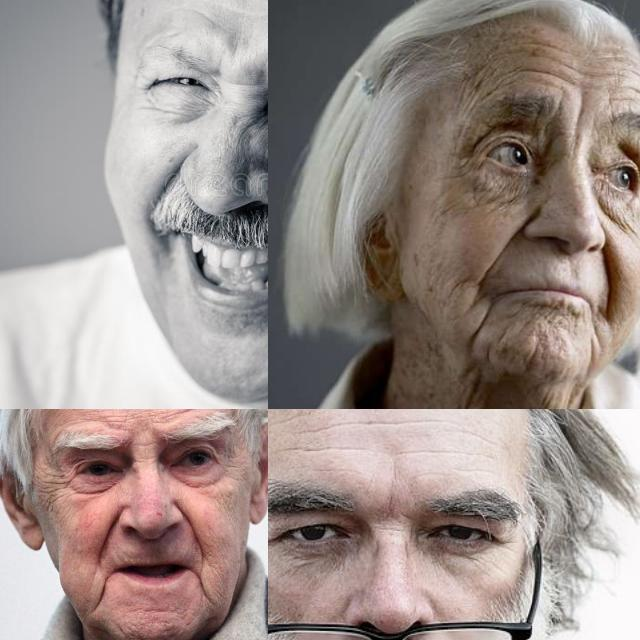bunny_line: (239, 109, 265, 141)
chin: (526, 297, 568, 323), (518, 339, 542, 375)
crows_feet: (450, 146, 482, 192), (50, 468, 74, 497)
forehead: (330, 409, 436, 438), (516, 45, 574, 91), (604, 63, 640, 109), (413, 440, 475, 464), (288, 435, 340, 463), (462, 61, 498, 99), (188, 5, 226, 33), (96, 409, 153, 414), (175, 409, 211, 416)
frown_line: (566, 102, 584, 156)
gummy_smile: (489, 213, 533, 270), (594, 232, 616, 302), (177, 508, 205, 552), (98, 508, 122, 554), (153, 160, 180, 200)
sad_smile: (582, 318, 604, 374), (465, 299, 491, 346), (89, 578, 115, 610), (193, 573, 215, 605)
